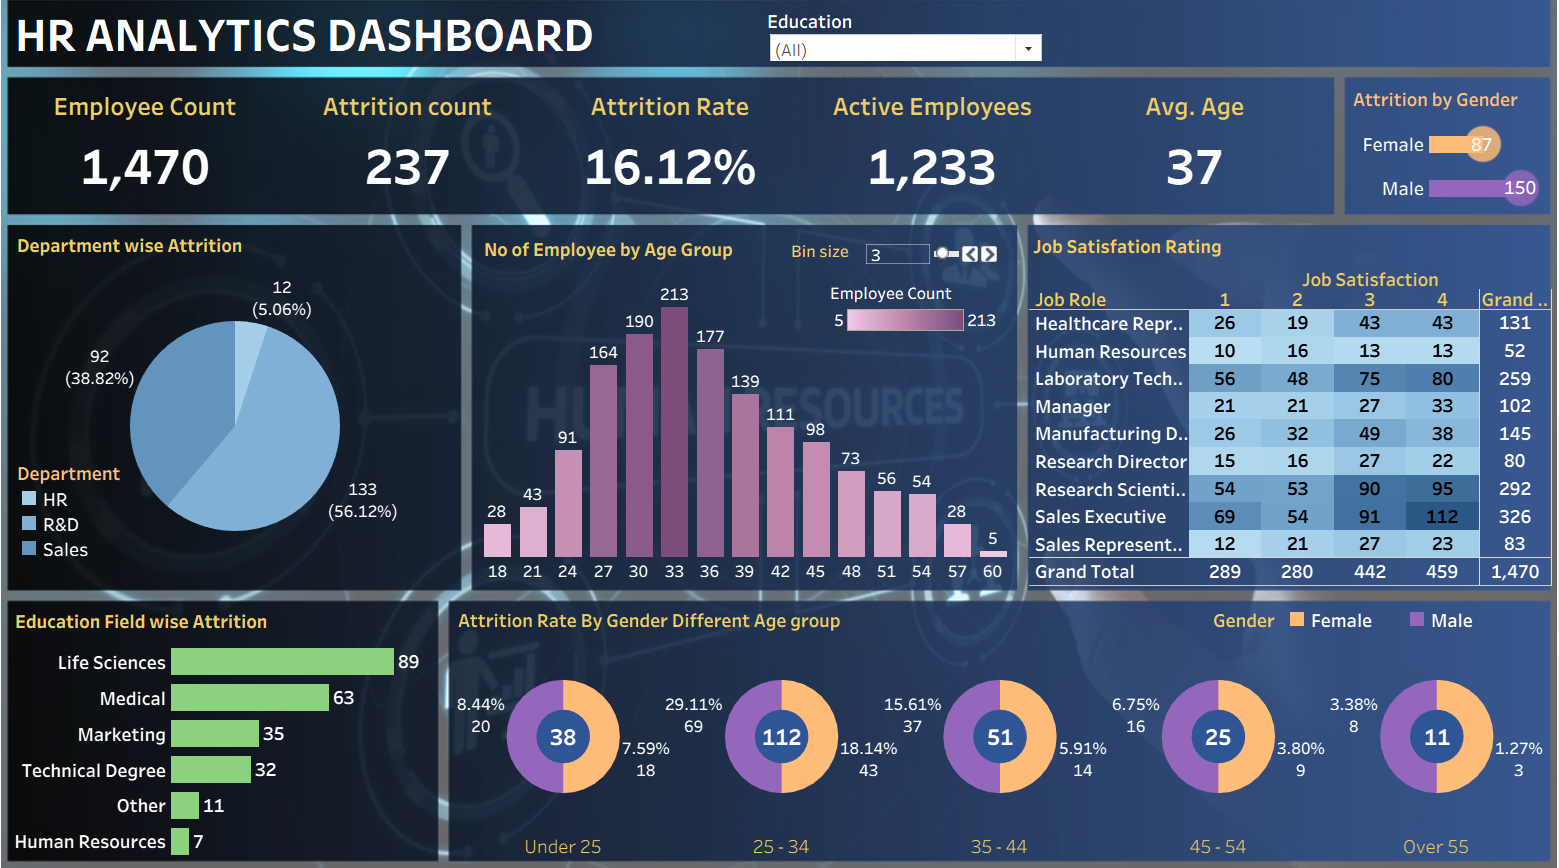

Layout of this report page (visuals, bound fields, positions):
{"tool":"tableau","page":{"name":"HR ANALYTICS DASHBOARD ","canvas":[1580,900],"ordinal":0},"visuals":[{"type":"image","param":"Image/HR background.png","box":[8,8,1564,884]},{"type":"text","box":[22,22,851,61]},{"type":"filter","title":"Attrition Rate By Gender Different Age group ","param":"[federated.0sg8amm0304r9s1ehwmya16082wg].[none:Education:nk]","box":[778,27,278,53]},{"type":"worksheet","title":"KPI","mark":"Automatic","box":[25,101,1312,126]},{"type":"worksheet","title":"Attrition by Gender","mark":"Circle","rows":["Gender"],"cols":["Calculation_0629243422396416","Calculation_0629243422396416"],"box":[1360,101,195,128]},{"type":"worksheet","title":"Department wise Attrition","mark":"Pie","box":[24,247,444,356]},{"type":"worksheet","title":"Job Satisfation Rating","mark":"Square","rows":["Job Role"],"cols":["Job Satisfaction"],"box":[1040,248,523,357]},{"type":"worksheet","title":"No of Employee by Age Group","mark":"Automatic","rows":["Employee Count"],"cols":["Age (bin)"],"box":[491,251,531,351]},{"type":"parameter","param":"[Parameters].[Parameter 1]","box":[802,260,209,33]},{"type":"legend","title":"No of Employee by Age Group","param":"[federated.0sg8amm0304r9s1ehwmya16082wg].[sum:Employee Count:qk]","box":[841,301,171,59]},{"type":"legend","title":"Department wise Attrition","param":"[federated.0sg8amm0304r9s1ehwmya16082wg].[none:Department:nk]","box":[28,479,109,108]},{"type":"worksheet","title":"Attrition Rate By Gender Different Age group ","mark":"Pie","rows":["Calculation_0679278162079745","Calculation_0679278163030025"],"cols":["CF_age band"],"box":[465,622,1092,256]},{"type":"worksheet","title":"Education Field wise Attrition","mark":"Automatic","rows":["Education Field"],"cols":["Calculation_0629243422396416"],"box":[22,623,425,255]},{"type":"legend","title":"Attrition Rate By Gender Different Age group ","param":"[federated.0sg8amm0304r9s1ehwmya16082wg].[none:Gender:nk]","box":[1224,626,333,31]}]}

Visuals, with their boxes in screenshot pixels (x1, y1, x2, y2), scaled from the page's 1580x900 canvas onto the 1559x868 screenshot:
image: 8,8,1551,860
text: 22,21,861,80
"Attrition Rate By Gender Different Age group " filter: 768,26,1042,77
"KPI" worksheet: 25,97,1319,219
"Attrition by Gender" worksheet (Circle marks): 1342,97,1534,221
"Department wise Attrition" worksheet (Pie marks): 24,238,462,582
"Job Satisfation Rating" worksheet (Square marks): 1026,239,1542,583
"No of Employee by Age Group" worksheet: 484,242,1008,581
parameter: 791,251,998,283
"No of Employee by Age Group" legend: 830,290,999,347
"Department wise Attrition" legend: 28,462,135,566
"Attrition Rate By Gender Different Age group " worksheet (Pie marks): 459,600,1536,847
"Education Field wise Attrition" worksheet: 22,601,441,847
"Attrition Rate By Gender Different Age group " legend: 1208,604,1536,634
